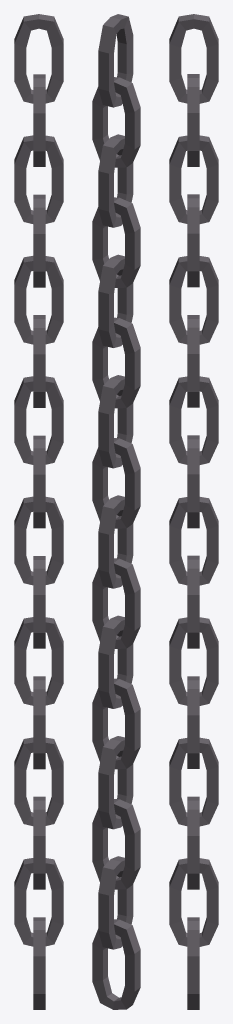
Rendered from Chain.fbx.
3 views of the same model, side by side, from view 1: azimuth 90°, elevation 25°; view 2: azimuth 150°, elevation 25°; view 3: azimuth 270°, elevation 25° (orthographic).
Visible parts, largest first — view 1: Plane.010; view 2: Plane.010; view 3: Plane.010.
Part boxes in pixels (x1,y1,x2,y2): Plane.010: [14, 14, 63, 1009]; Plane.010: [92, 14, 140, 1009]; Plane.010: [169, 14, 218, 1009].
Bounding box in the file's own units: 9.04 × 202 × 9.04.
